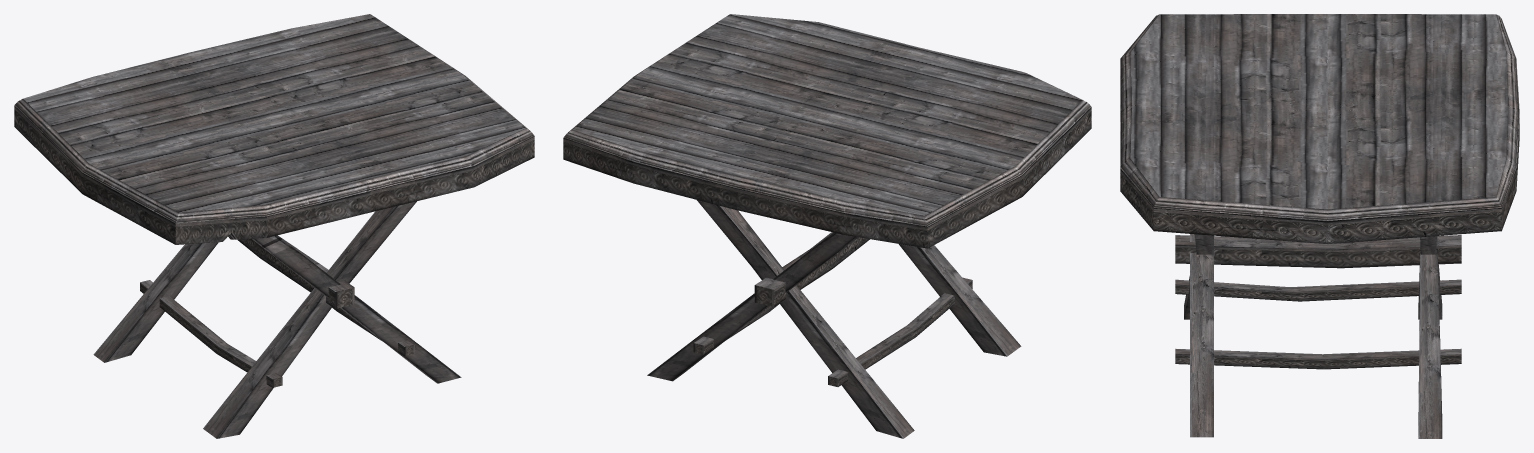
Rendered from tavern_table2.dae.
3 views of the same model, side by side, from view 1: azimuth 30°, elevation 25°; view 2: azimuth 150°, elevation 25°; view 3: azimuth 270°, elevation 25° (orthographic). The views are drawn at different scales.
Parts seen in each view (by area): view 1: Default_Layer; view 2: Default_Layer; view 3: Default_Layer.
Part boxes in pixels (x1,y1,x2,y2): Default_Layer: [14, 14, 534, 438]; Default_Layer: [563, 14, 1091, 438]; Default_Layer: [1120, 14, 1519, 438].
Size of the model in its own units: 6.08 by 3.76 by 5.07.
